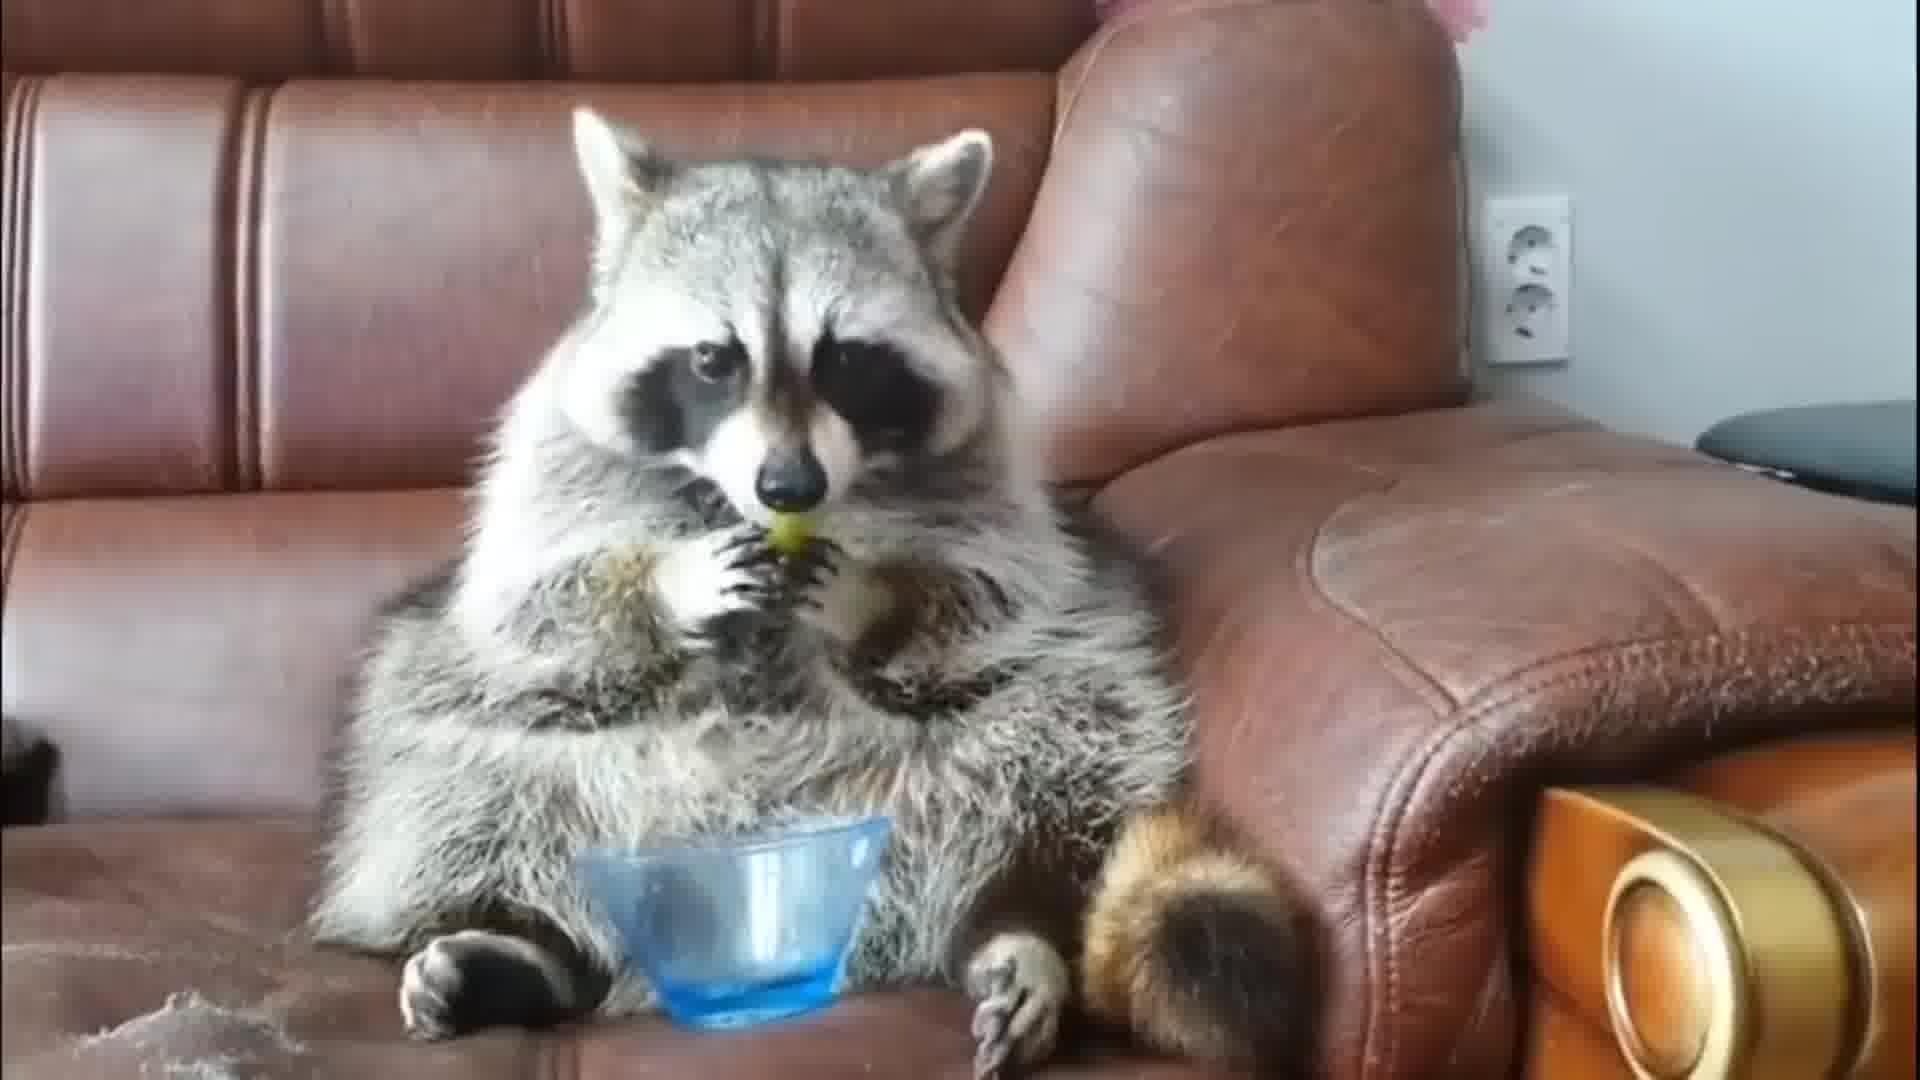raccoon: (311, 96, 1329, 1080)
